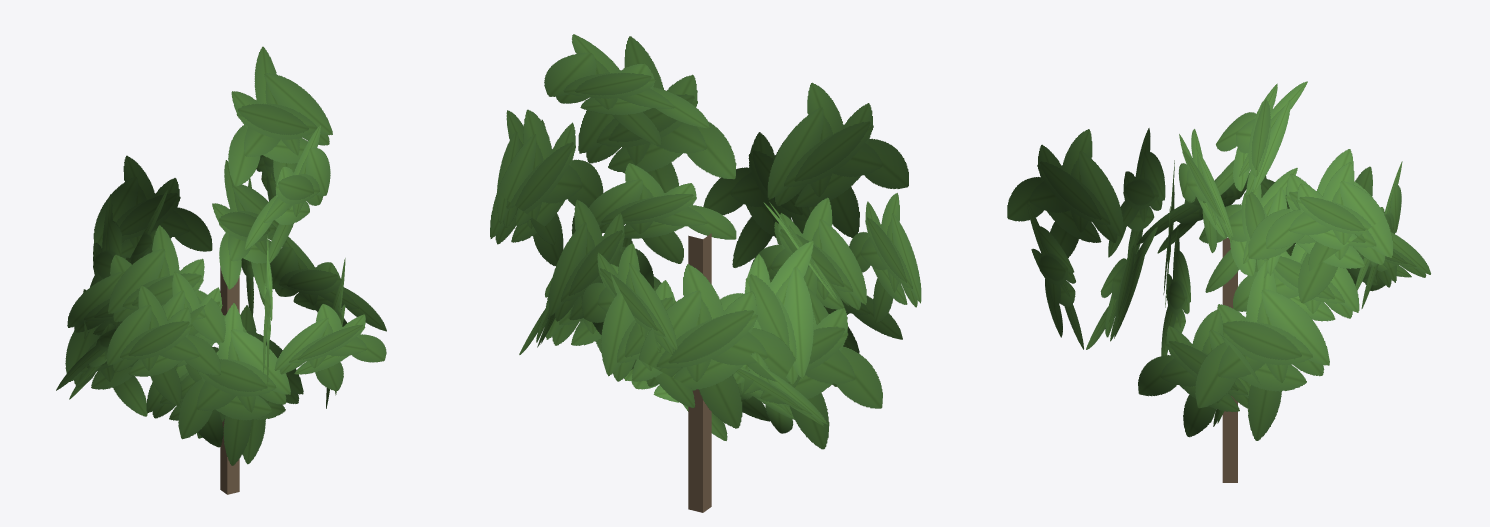
Rendered from foliage_bush.gltf.
The picture shows the model from 3 angles, left to right: view 1: azimuth 30°, elevation 25°; view 2: azimuth 150°, elevation 25°; view 3: azimuth 270°, elevation 25°; orthographic projection. The views are drawn at different scales.
Visible parts, largest first — view 1: foliage_bush; view 2: foliage_bush; view 3: foliage_bush.
Part boxes in pixels (box(x1,y1,x2,y2)): foliage_bush: box(56, 46, 386, 494); foliage_bush: box(490, 34, 921, 512); foliage_bush: box(1007, 81, 1430, 482).
Size of the model in its own units: 1.3 by 1.36 by 1.37.
Materials: 2 (1 with a texture image).
